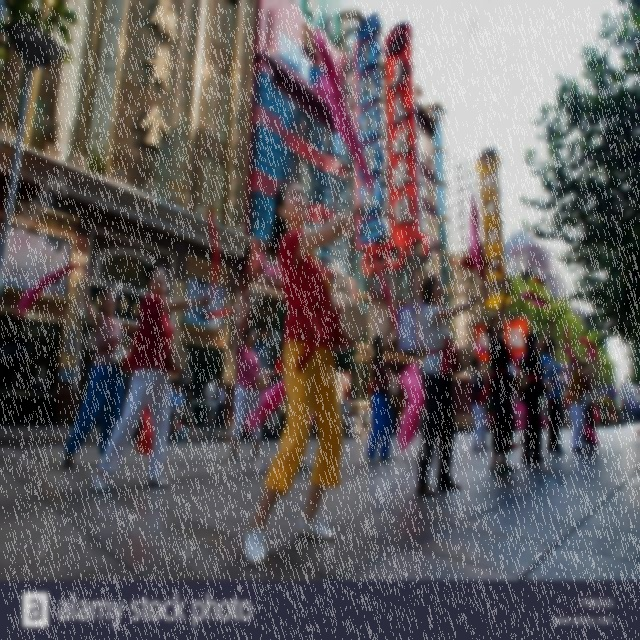pessoa: (240, 172, 372, 572), (91, 257, 213, 494), (62, 263, 142, 470), (416, 274, 478, 496), (227, 302, 283, 462), (484, 278, 518, 476), (518, 311, 558, 466), (540, 338, 580, 458), (366, 333, 399, 464), (300, 410, 352, 473), (568, 356, 598, 454), (468, 354, 495, 454), (578, 358, 603, 450), (510, 358, 535, 446), (34, 230, 66, 290), (182, 368, 200, 434), (201, 372, 219, 438), (169, 380, 185, 440), (194, 276, 214, 324), (214, 382, 228, 434), (296, 157, 312, 196), (339, 388, 354, 416), (298, 110, 310, 134), (432, 438, 439, 456), (621, 411, 628, 426), (169, 381, 176, 393)
